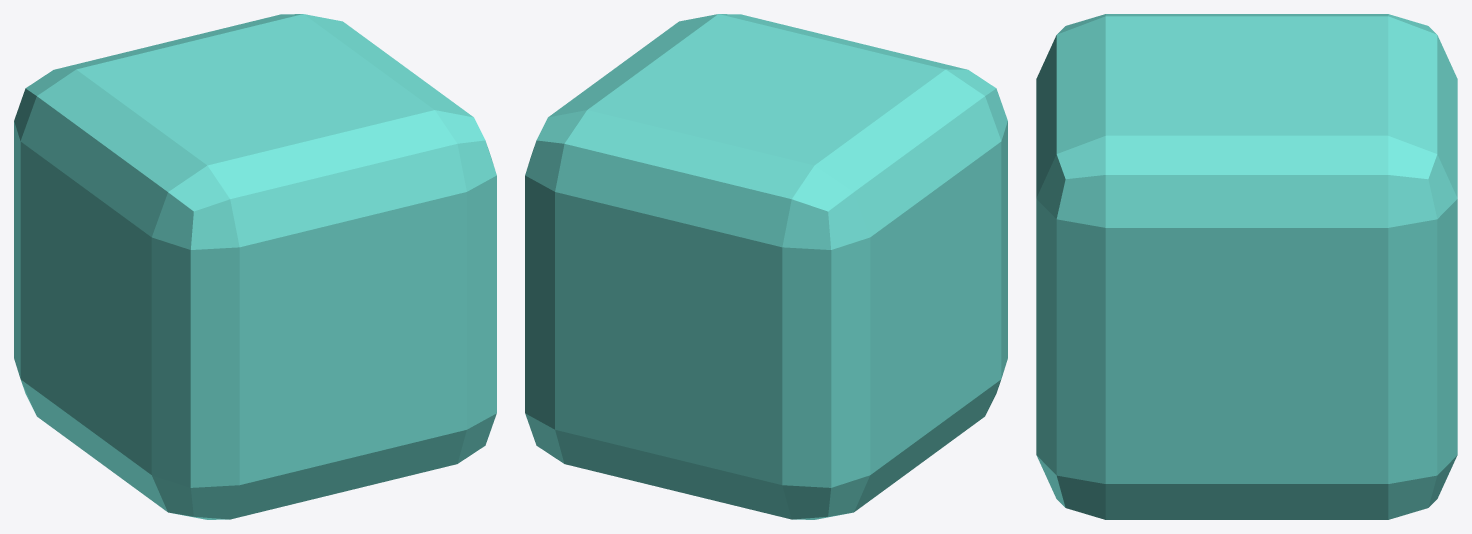
Rendered from Ice Cube.fbx.
3 views of the same model, side by side, from view 1: azimuth 30°, elevation 25°; view 2: azimuth 150°, elevation 25°; view 3: azimuth 270°, elevation 25° (orthographic). The views are drawn at different scales.
Parts seen in each view (by area): view 1: Ice Cube; view 2: Ice Cube; view 3: Ice Cube.
Part boxes in pixels (x1,y1,x2,y2): Ice Cube: [14, 14, 496, 519]; Ice Cube: [525, 14, 1007, 519]; Ice Cube: [1036, 14, 1457, 519].
Bounding box in the file's own units: 40 × 40 × 40.
